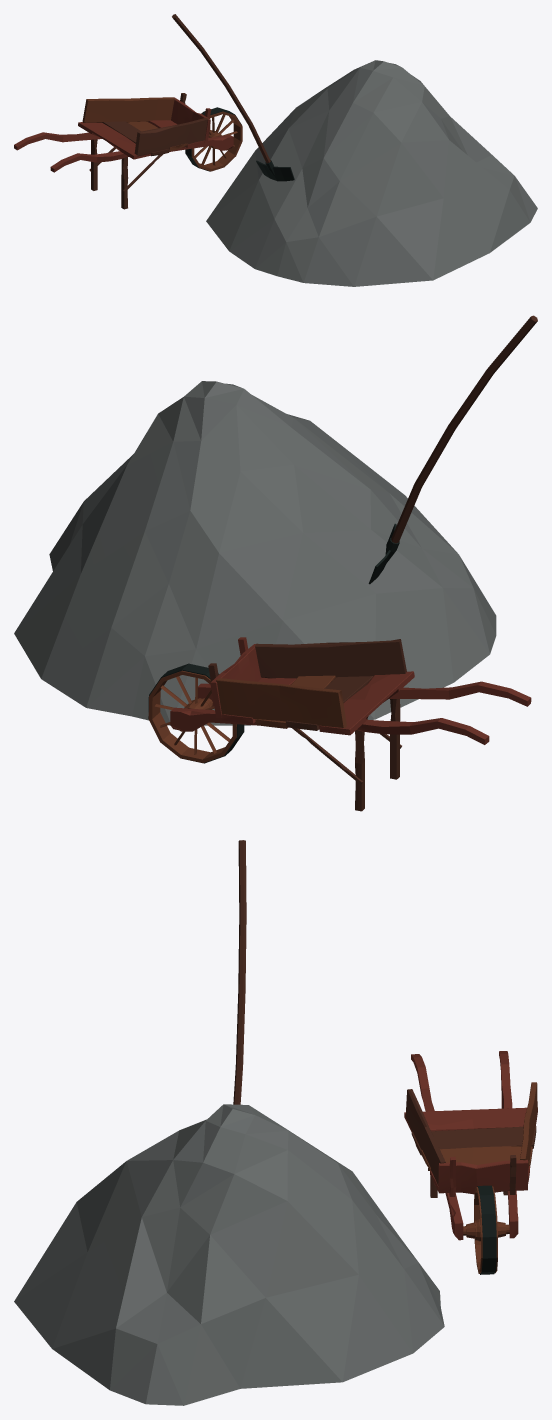
File: sand with wheelbarrow.fbx
3 renders of one model, top to bottom at view 1: azimuth 30°, elevation 25°; view 2: azimuth 150°, elevation 25°; view 3: azimuth 270°, elevation 25°, orthographic. The views are drawn at different scales.
Parts seen in each view (by area): view 1: mucchio, carriola, badile; view 2: mucchio, carriola, badile; view 3: mucchio, carriola, badile.
Part boxes in pixels (x1,y1,x2,y2): mucchio: (206,60,537,286); carriola: (14,93,242,209); badile: (172,14,294,181); mucchio: (14,381,496,725); carriola: (148,637,531,811); badile: (368,315,537,584); mucchio: (14,1104,444,1405); carriola: (404,1051,537,1274); badile: (233,840,246,1104).
Bounding box in the file's own units: 337 × 203 × 279.
